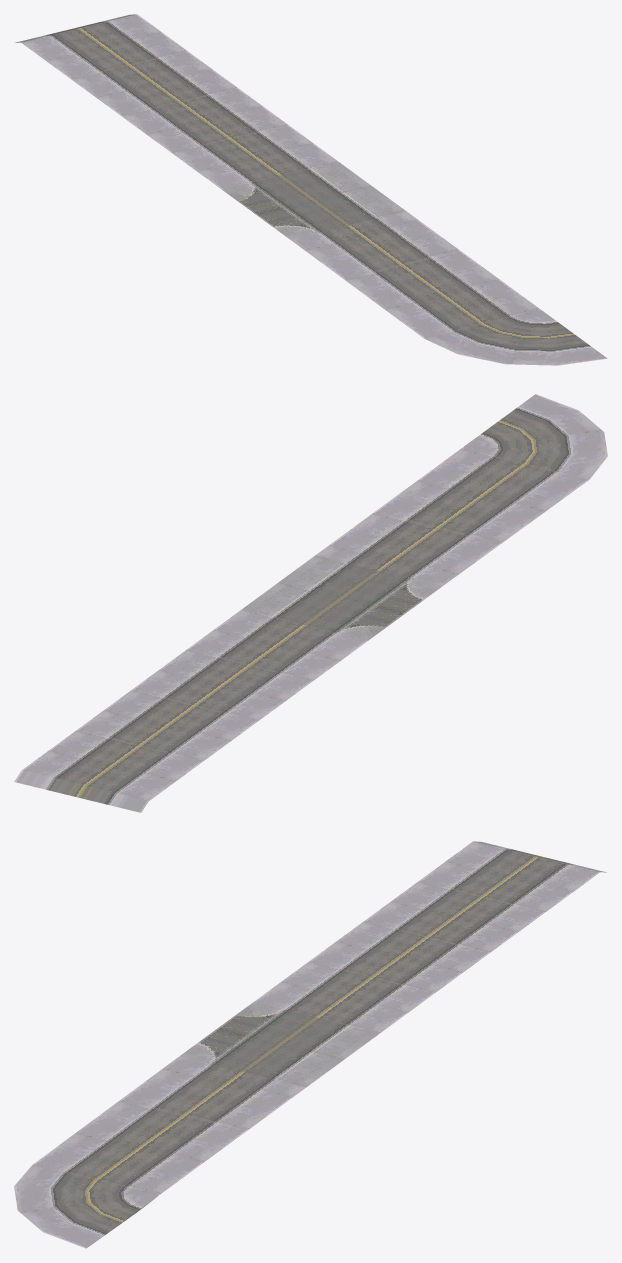
The model's file is lodassroad122.obj.
3 views of the same model, one above another, from view 1: azimuth 30°, elevation 25°; view 2: azimuth 150°, elevation 25°; view 3: azimuth 330°, elevation 25° (orthographic). The views are drawn at different scales.
Parts seen in each view (by area): view 1: lodasSroad122; view 2: lodasSroad122; view 3: lodasSroad122.
Boxes of the visible parts, x1,y1,x2,y2 form: lodasSroad122: [15, 14, 607, 365]; lodasSroad122: [14, 394, 607, 812]; lodasSroad122: [14, 841, 606, 1248].
Bounding box in the file's own units: 20.01 × 0.8982 × 142.
2 materials, 2 textured.
